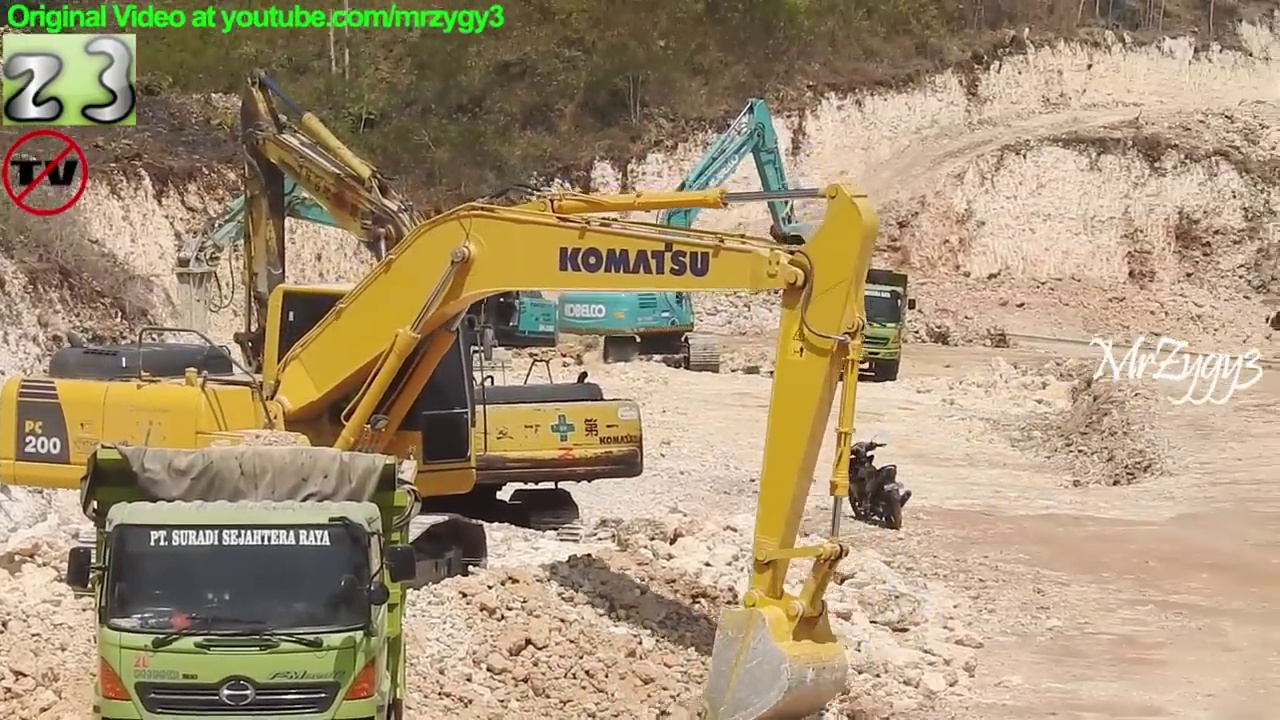excavator: (1, 174, 884, 720), (220, 59, 653, 552), (169, 158, 564, 392), (550, 90, 850, 379)
truck: (61, 438, 428, 720), (778, 257, 919, 385)
